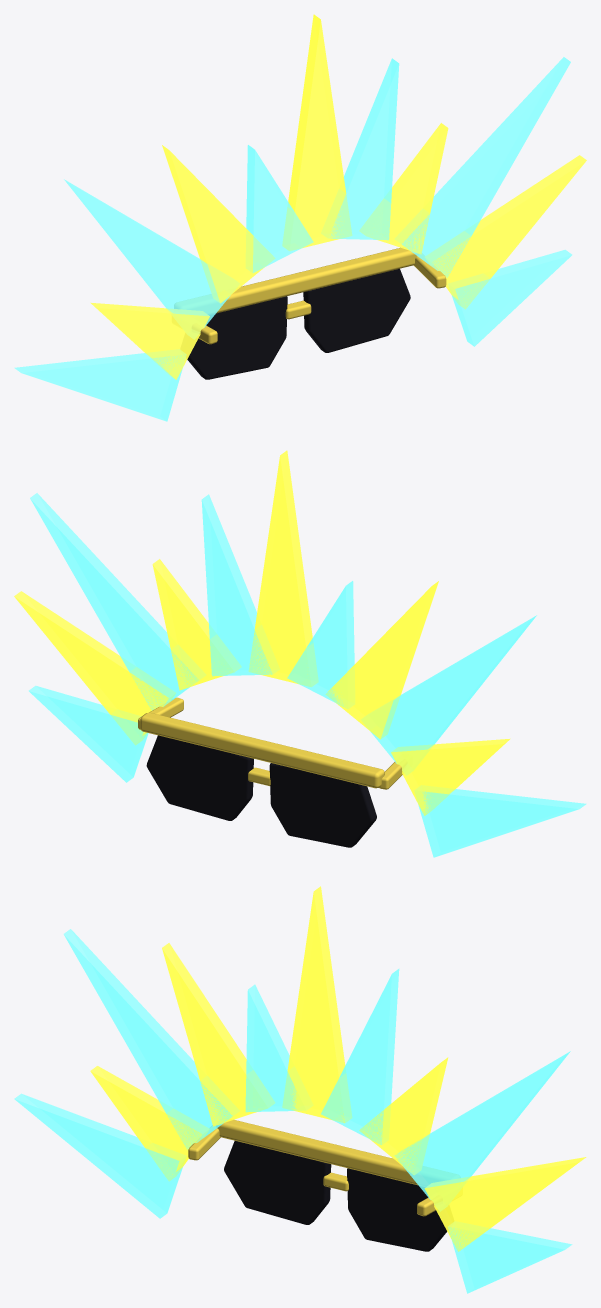
Rendered from x_spin_aura.glb.
3 renders of one model, top to bottom at view 1: azimuth 30°, elevation 25°; view 2: azimuth 150°, elevation 25°; view 3: azimuth 330°, elevation 25°, orthographic.
Parts seen in each view (by area): view 1: aura, shades.001; view 2: aura, shades.001; view 3: aura, shades.001.
Part boxes in pixels (bbox=[...]): aura: bbox=[14, 14, 586, 421]; shades.001: bbox=[174, 247, 446, 379]; aura: bbox=[14, 450, 586, 857]; shades.001: bbox=[138, 697, 402, 847]; aura: bbox=[14, 886, 586, 1293]; shades.001: bbox=[188, 1120, 459, 1251].
Bounding box in the file's own units: 0.8977 × 0.5534 × 0.1002.
